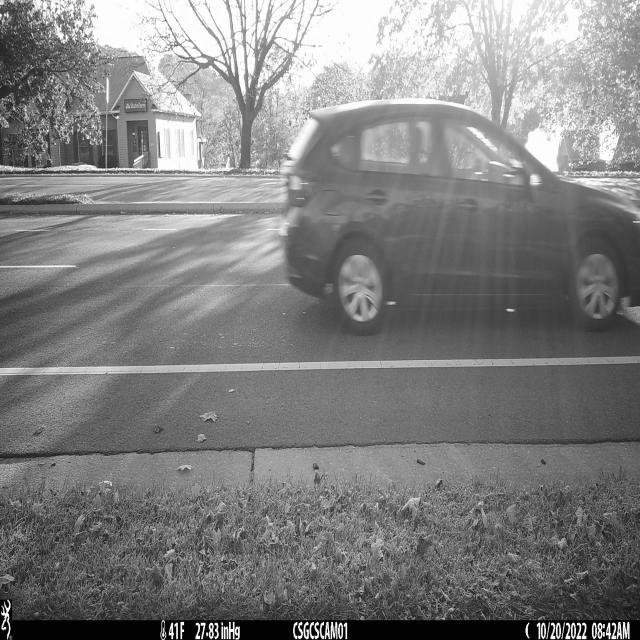Hatchback: (277, 99, 640, 334)
